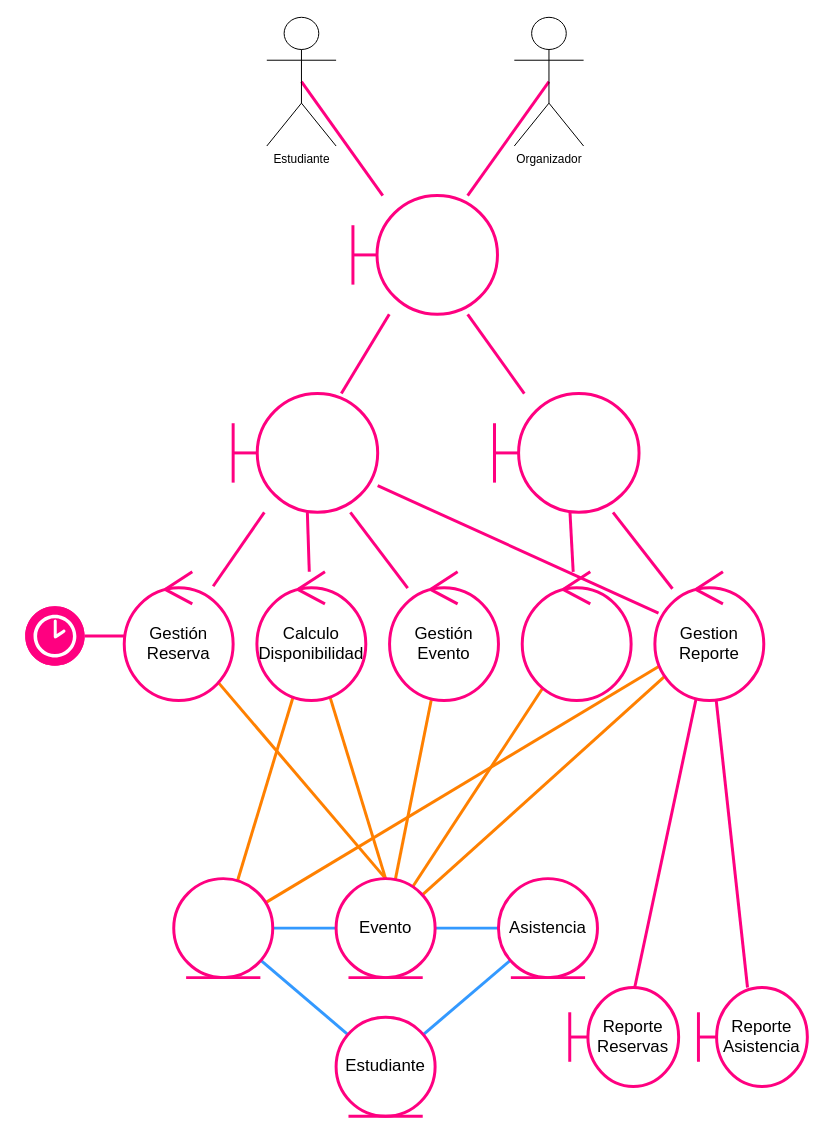
The diagram is 826 pixels wide and 1135 high, and some of its shapes have lost their labels. The centre of each missing label's shape, as x and y in pixels:
Gestión Asistencia: pixel 576 635
Interfaz CampusFest: pixel 424 254
Pantalla Asistencia: pixel 566 452
PantallaEvento: pixel 305 452
Reserva: pixel 223 928
Tiempo:10min: pixel 54 635
